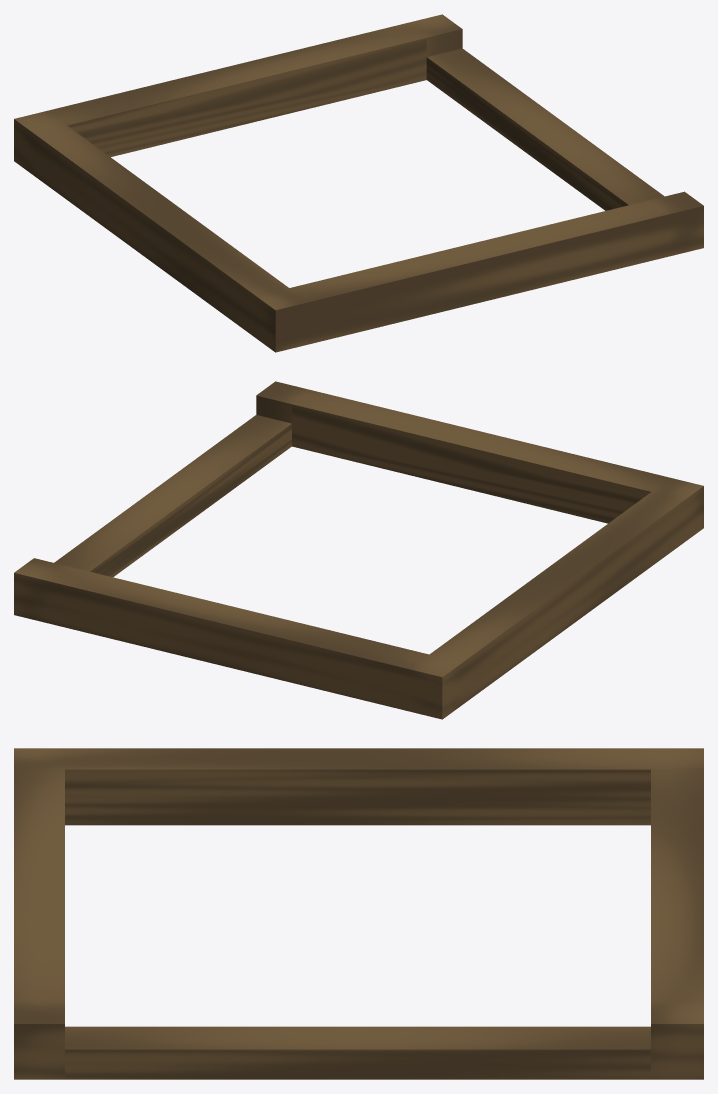
Rendered from BedroomMap.obj.
3 renders of one model, top to bottom at view 1: azimuth 30°, elevation 25°; view 2: azimuth 150°, elevation 25°; view 3: azimuth 270°, elevation 25°, orthographic. The views are drawn at different scales.
Visible parts, largest first — view 1: Cube; view 2: Cube; view 3: Cube.
Boxes of the visible parts, left/top/right/bottom form: Cube: left=14, top=14, right=703, bottom=352; Cube: left=14, top=381, right=703, bottom=719; Cube: left=14, top=748, right=703, bottom=1079.
Bounding box in the file's own units: 16.54 × 1.56 × 17.49.
1 material, 1 textured.
